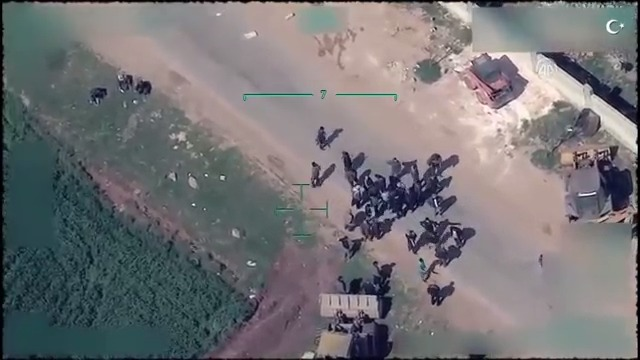insan: (423, 276, 444, 309), (335, 231, 356, 262), (314, 122, 332, 154), (309, 155, 325, 190), (400, 228, 420, 253), (449, 221, 466, 247), (429, 188, 445, 215)
